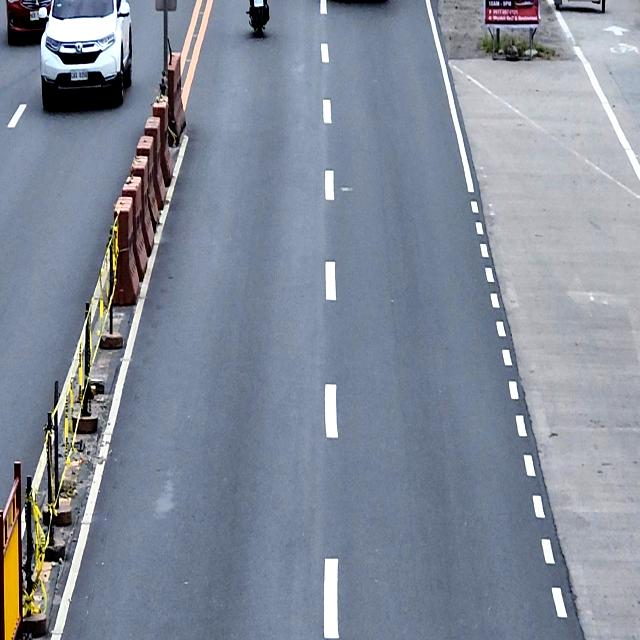Car: (41, 0, 134, 107), (6, 0, 54, 48)
License-Plate: (71, 71, 89, 81), (29, 9, 40, 22), (254, 0, 264, 8)
Motorcycle: (246, 0, 272, 40)
